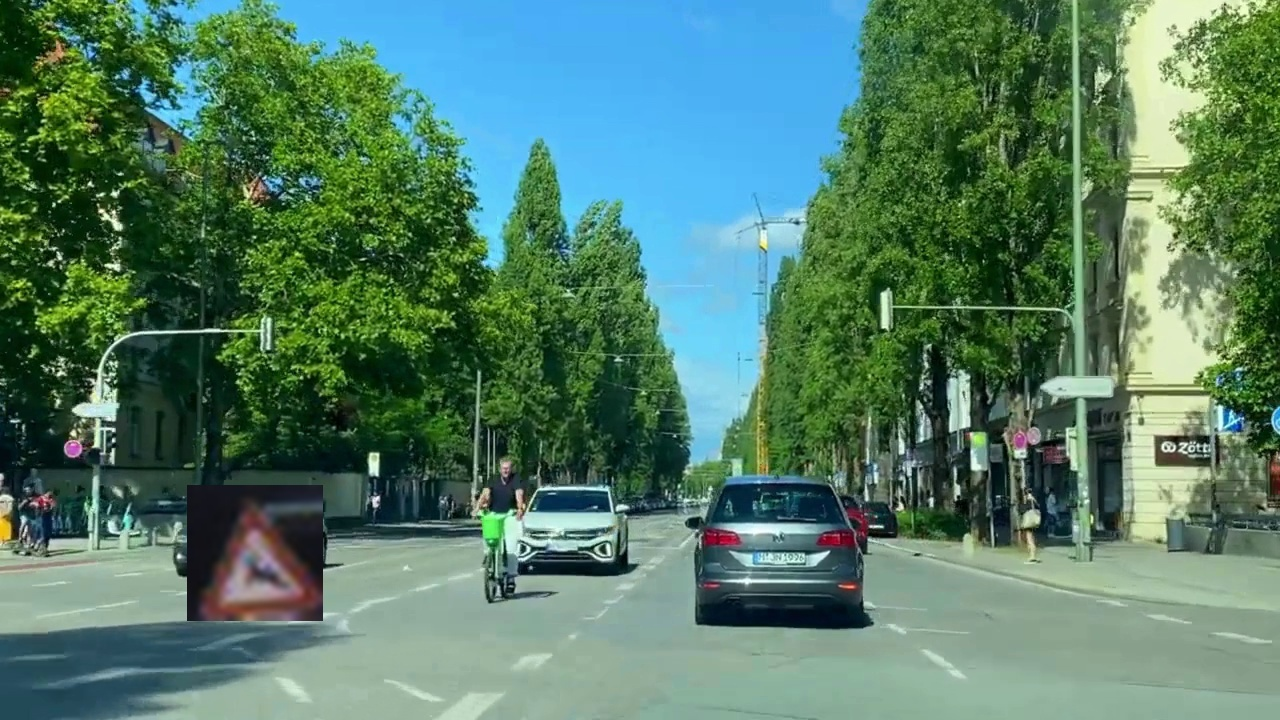Wild animals: (187, 485, 323, 621)
